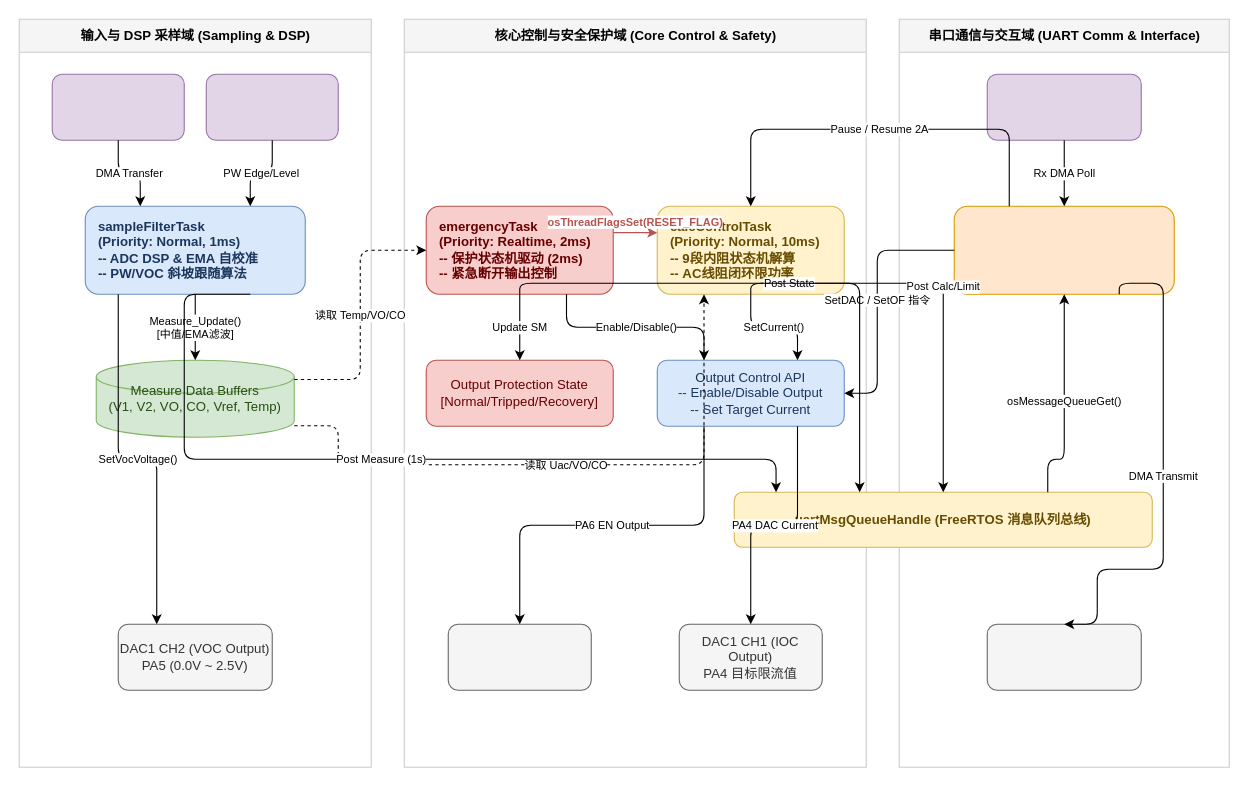
Some shapes in this 1249 by 787 pixel diagram are drawn without their labels. Each missing label, with the centre of its shape:
ADC1 + DMA [Circular 循环乒乓]: the point at 117,106
EXTI PB0 (PW Input) [Mux Shadow Level]: the point at 271,106
OF_EN (GPIO Output) PA6 硬件电源使能: the point at 519,656
uartTask (Priority: AboveNormal, 5ms) -- DMA TX/RX 轮询驱动 -- 命令接收解析与分发: the point at 1063,249
USART1 RX + DMA [Idle RX]: the point at 1063,106
USART1 TX + DMA [NonBlocking TX]: the point at 1063,656
